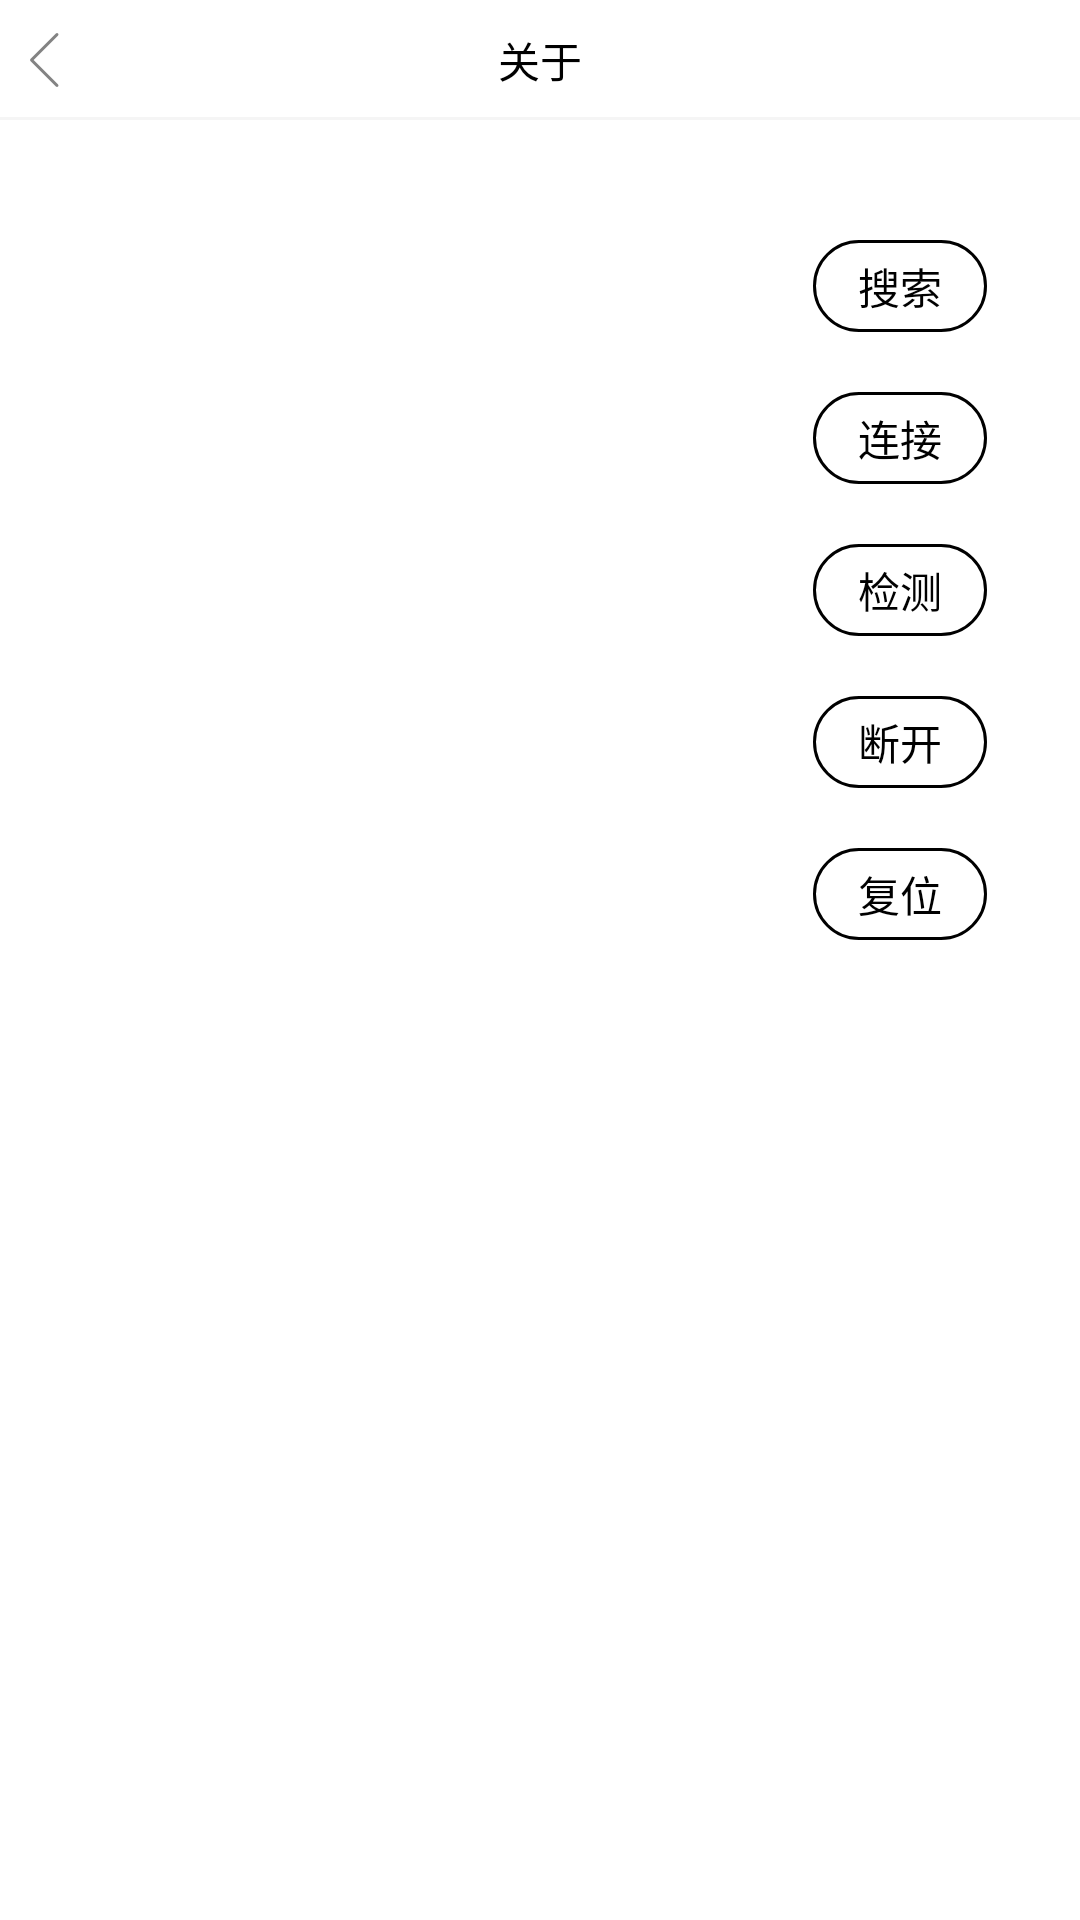

Icon click points for this 1080 × 1920 phone screenshot, format [x,y]:
back: [44,60]
